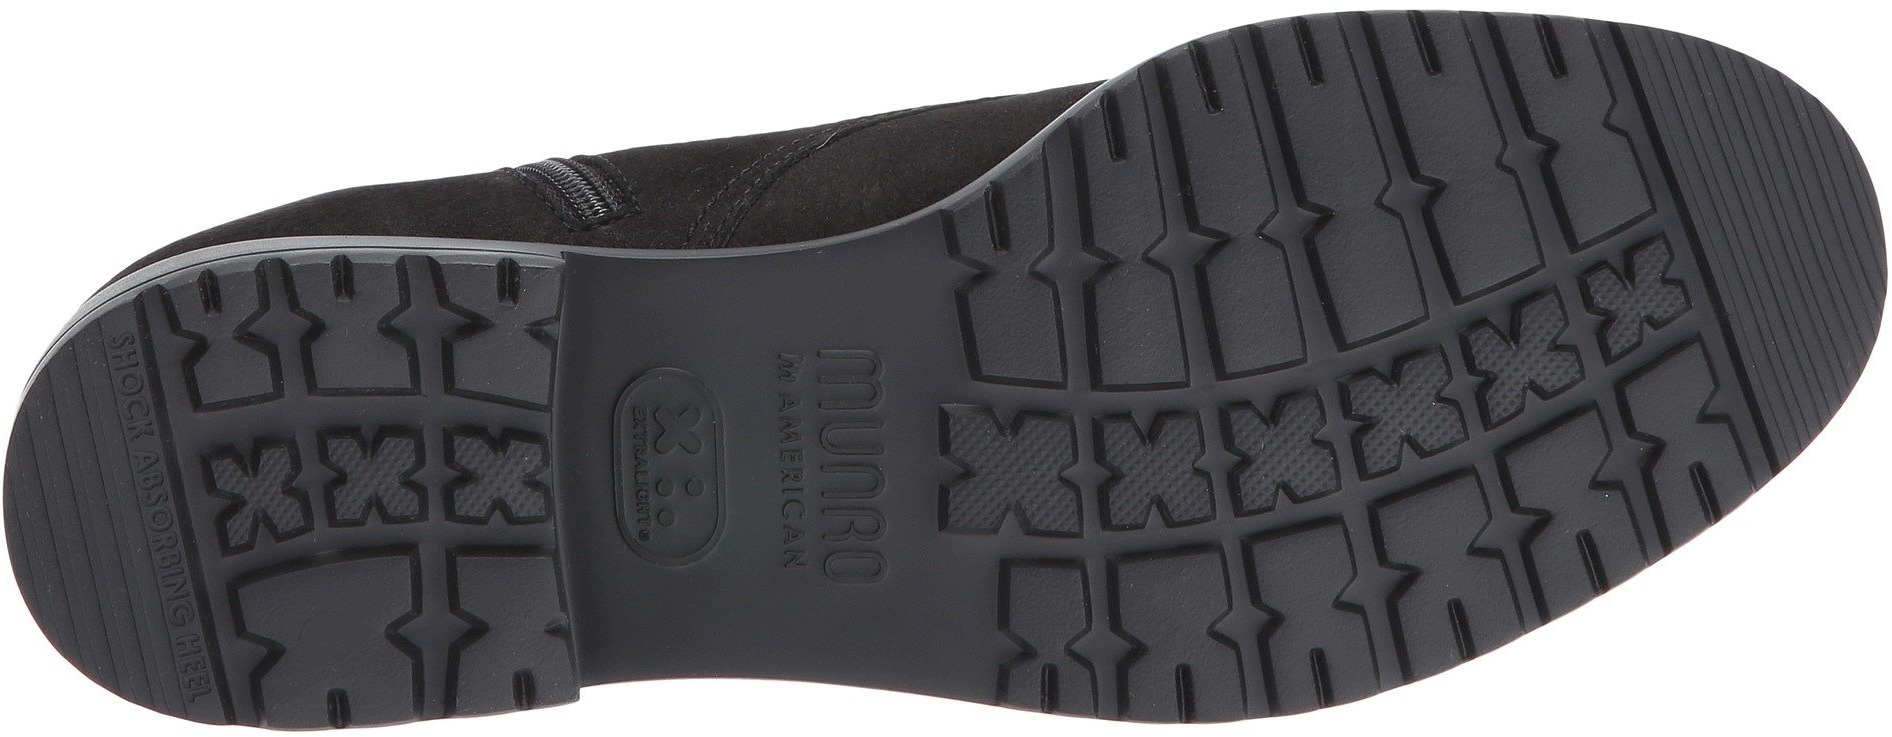bowtie: (1396, 57, 1656, 296), (1065, 160, 1314, 388), (241, 545, 434, 726), (1353, 455, 1532, 625), (156, 288, 290, 416)
exclude: (551, 252, 779, 735)
line: (7, 461, 134, 580)
other: (1735, 224, 1867, 351)
star: (929, 398, 1090, 542), (1453, 294, 1596, 429), (1214, 387, 1345, 520), (198, 434, 321, 551), (313, 419, 436, 536), (440, 419, 553, 527)
text: (798, 455, 932, 586), (801, 343, 907, 456)
